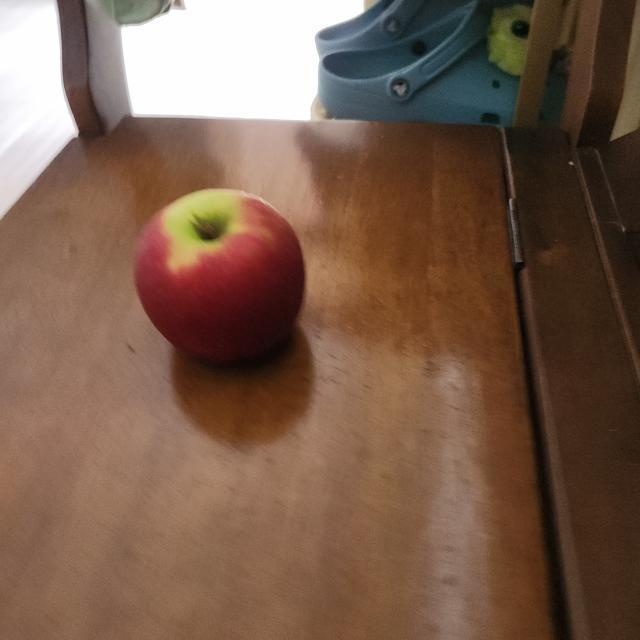apple: (126, 186, 317, 377)
